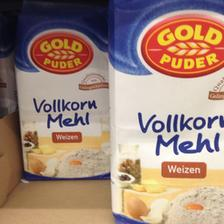Mehl: (109, 0, 224, 222), (14, 6, 112, 180)
